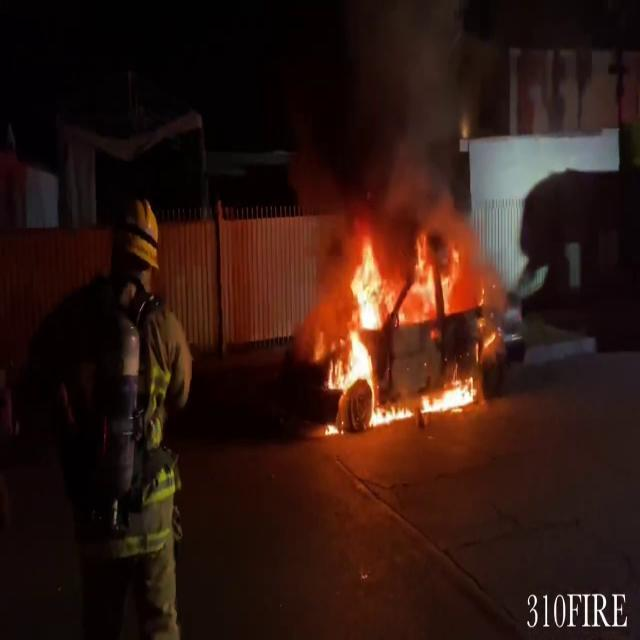Fire: (321, 212, 493, 429)
Smoke: (310, 0, 480, 242)
